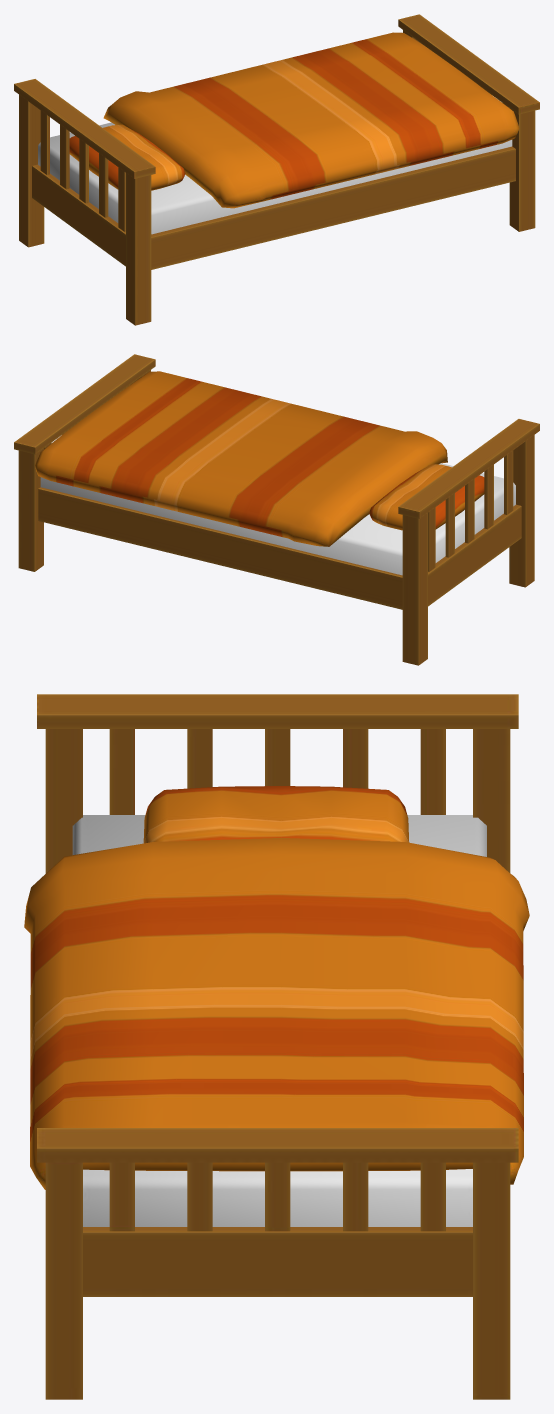
The model's file is singleBedwCovers.fbx.
3 renders of one model, top to bottom at view 1: azimuth 30°, elevation 25°; view 2: azimuth 150°, elevation 25°; view 3: azimuth 270°, elevation 25°, orthographic. The views are drawn at different scales.
Parts seen in each view (by area): view 1: singleBedwCovers; view 2: singleBedwCovers; view 3: singleBedwCovers.
Boxes of the visible parts, bbox=[...] form: singleBedwCovers: bbox=[14, 14, 539, 325]; singleBedwCovers: bbox=[14, 354, 539, 665]; singleBedwCovers: bbox=[24, 694, 529, 1399].
Bounding box in the file's own units: 201 × 109 × 73.96.
